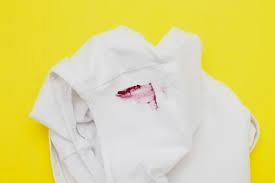lipstick: (112, 82, 161, 110)
